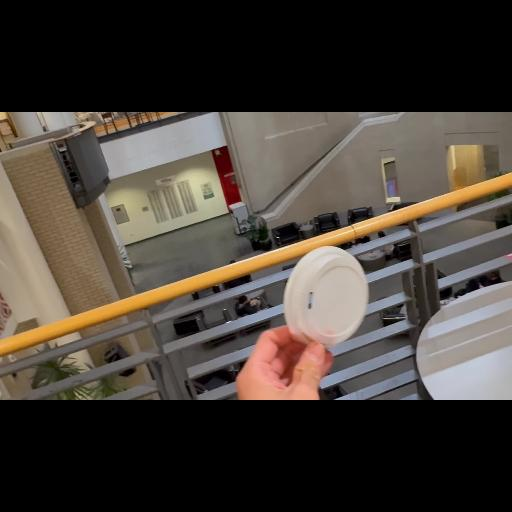lp_cup_lids: (276, 243, 372, 351)
